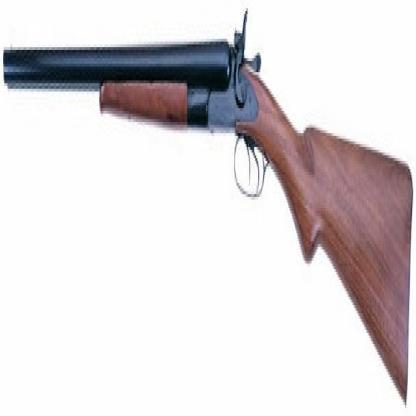gun: (0, 19, 414, 416)
